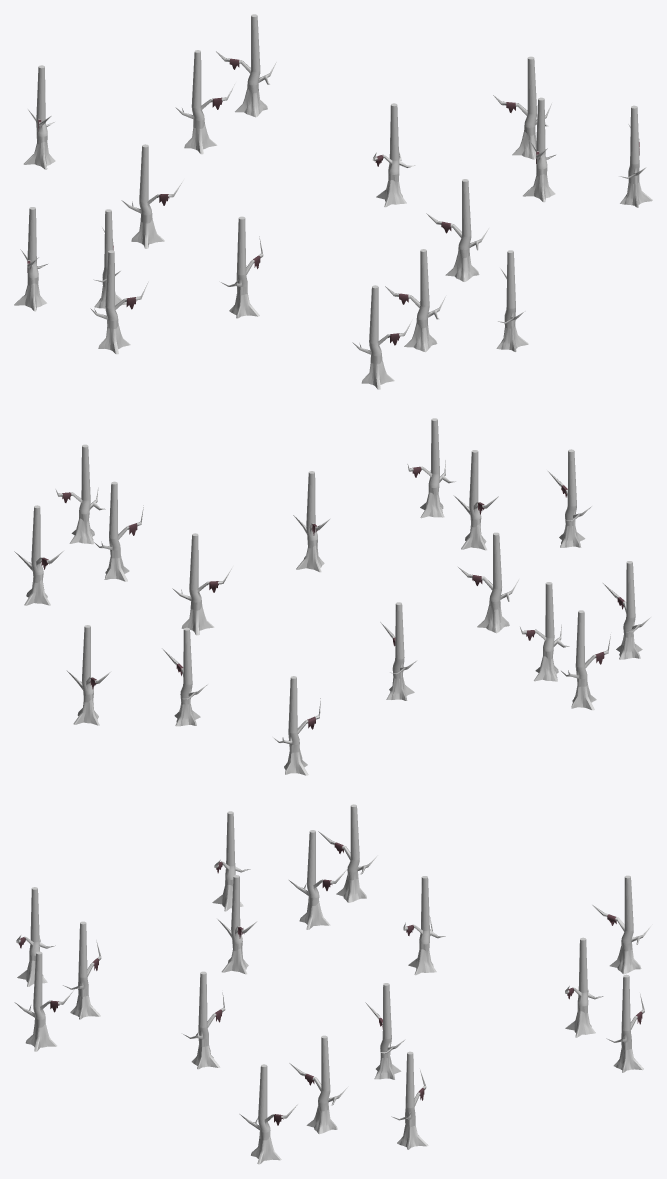
File: tree2-s2.fbx
The picture shows the model from 3 angles, top to bottom: view 1: azimuth 30°, elevation 25°; view 2: azimuth 150°, elevation 25°; view 3: azimuth 270°, elevation 25°; orthographic projection. The views are drawn at different scales.
Parts seen in each view (by area): view 1: Cylinder.039, Cylinder.050, Cylinder.054, Cylinder.053, Cylinder.051, Cylinder.048, Cylinder.043, Cylinder.040, Cylinder.005, Cylinder.047, Cylinder.052, Cylinder.045 (+4 smaller); view 2: Cylinder.047, Cylinder.005, Cylinder.044, Cylinder.042, Cylinder.045, Cylinder.052, Cylinder.041, Cylinder.049, Cylinder.040, Cylinder.043, Cylinder.053, Cylinder.050 (+4 smaller); view 3: Cylinder.052, Cylinder.045, Cylinder.049, Cylinder.042, Cylinder.041, Cylinder.044, Cylinder.048, Cylinder.039, Cylinder.040, Cylinder.054, Cylinder.050, Cylinder.053 (+4 smaller).
Boxes of the visible parts, x1,y1,x2,y2 form: Cylinder.039: (426, 179, 488, 281); Cylinder.050: (385, 249, 445, 352); Cylinder.054: (216, 14, 276, 117); Cylinder.053: (175, 50, 235, 154); Cylinder.051: (352, 285, 412, 389); Cylinder.048: (121, 144, 183, 248); Cylinder.043: (90, 250, 148, 354); Cylinder.040: (493, 56, 551, 159); Cylinder.005: (372, 103, 415, 207); Cylinder.047: (221, 216, 263, 318); Cylinder.052: (23, 65, 55, 169); Cylinder.045: (14, 207, 47, 311); Cylinder.047: (458, 532, 518, 633); Cylinder.005: (172, 533, 232, 635); Cylinder.044: (520, 582, 569, 681); Cylinder.042: (55, 444, 105, 544); Cylinder.045: (561, 610, 610, 710); Cylinder.052: (273, 676, 320, 775); Cylinder.041: (94, 481, 143, 581); Cylinder.049: (407, 418, 455, 518); Cylinder.040: (14, 505, 64, 605); Cylinder.043: (603, 561, 650, 659); Cylinder.053: (162, 627, 207, 726); Cylinder.050: (453, 450, 498, 550); Cylinder.052: (592, 875, 652, 974); Cylinder.045: (318, 804, 377, 902); Cylinder.049: (14, 951, 75, 1051); Cylinder.042: (239, 1064, 297, 1164); Cylinder.041: (289, 1035, 348, 1134); Cylinder.044: (289, 830, 347, 929); Cylinder.048: (403, 876, 445, 975); Cylinder.039: (183, 971, 225, 1069); Cylinder.040: (391, 1051, 428, 1149); Cylinder.054: (606, 974, 644, 1072); Cylinder.050: (63, 921, 101, 1019); Cylinder.053: (565, 937, 603, 1037).
Bounding box in the file's own units: 283 × 44.6 × 278.
